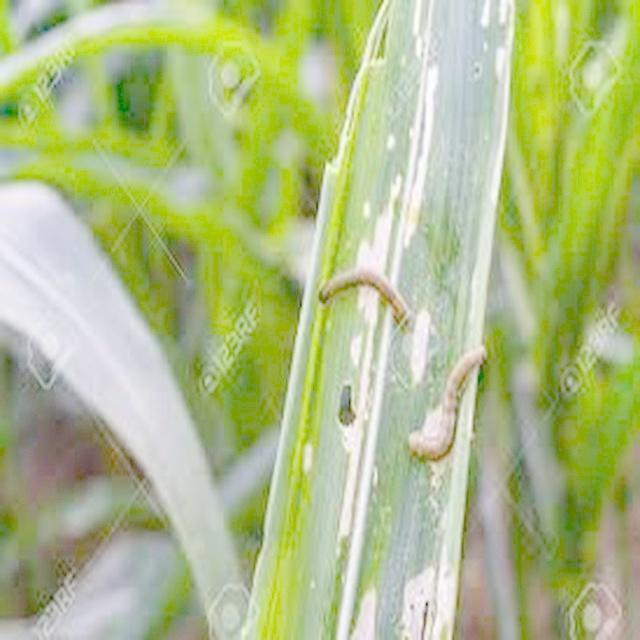Plaga: (405, 341, 490, 461), (316, 278, 416, 328)
